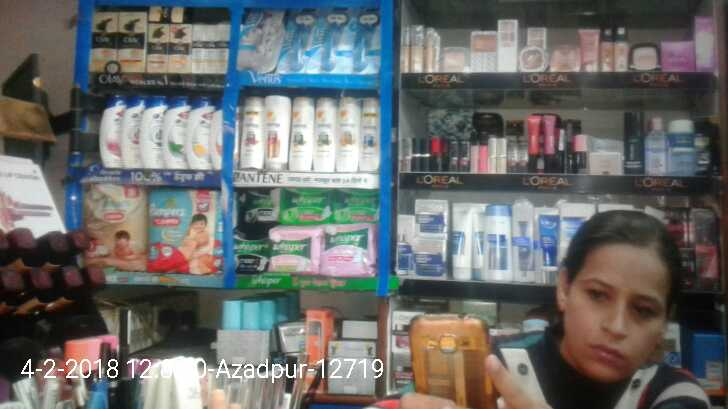venus: (279, 9, 318, 71), (242, 10, 279, 71), (349, 8, 381, 73), (318, 9, 349, 73)
